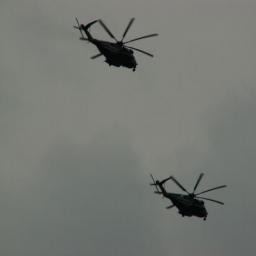helicopter: (74, 19, 158, 72), (151, 173, 231, 222)
